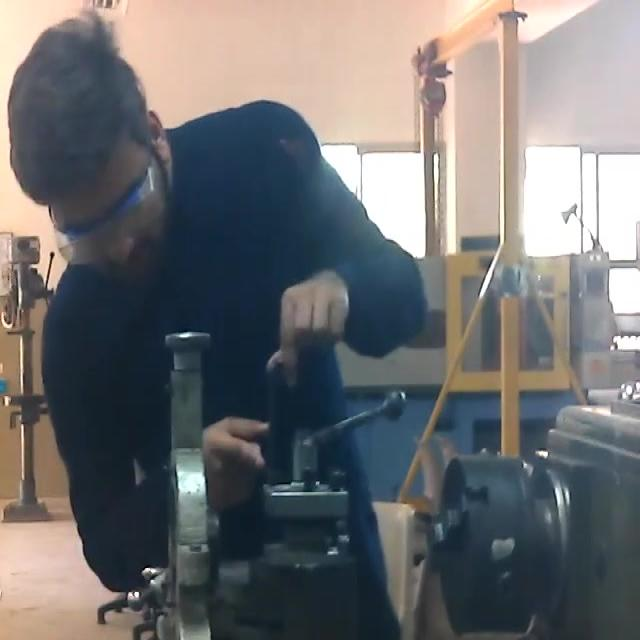googles: (54, 172, 160, 268)
